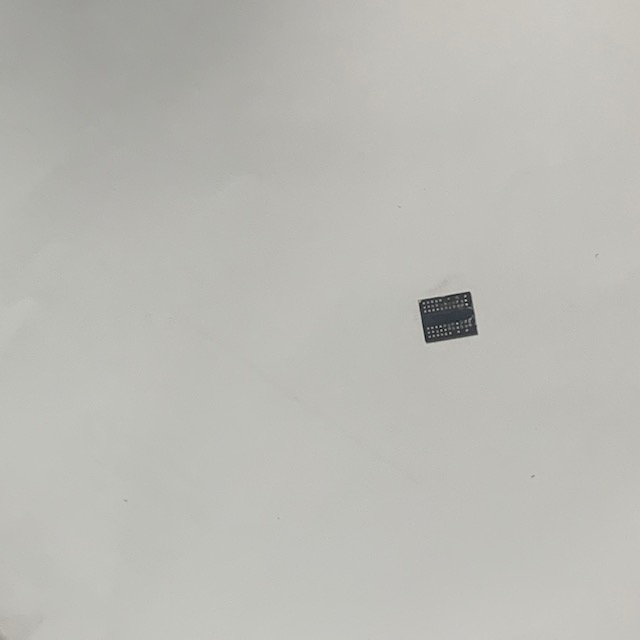IC: (412, 288, 481, 345)
